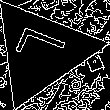L_SE: (10, 27, 73, 75)
